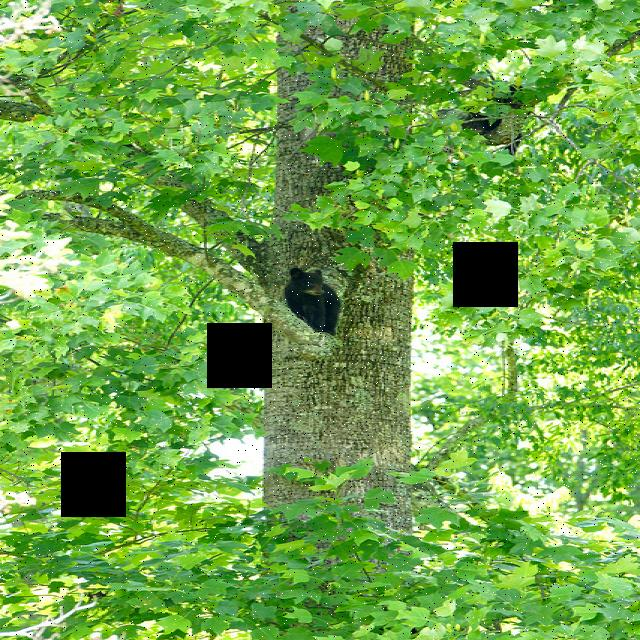Bear: (281, 266, 359, 329)
